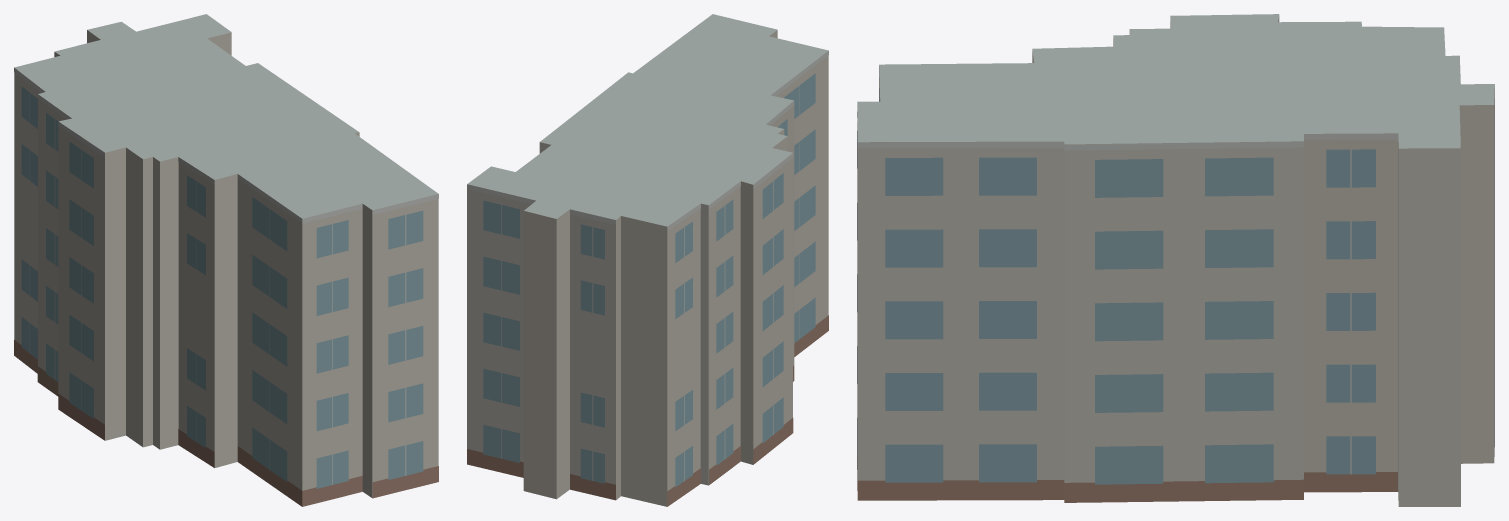
Rendered from survey-upis-32608229.glb.
3 views of the same model, side by side, from view 1: azimuth 30°, elevation 25°; view 2: azimuth 150°, elevation 25°; view 3: azimuth 270°, elevation 25° (orthographic). The views are drawn at different scales.
Visible parts, largest first — view 1: survey-upis-32608229.tmp; view 2: survey-upis-32608229.tmp; view 3: survey-upis-32608229.tmp.
Boxes of the visible parts, x1=… form: survey-upis-32608229.tmp: x1=14, y1=14, x2=438, y2=506; survey-upis-32608229.tmp: x1=467, y1=14, x2=828, y2=506; survey-upis-32608229.tmp: x1=857, y1=14, x2=1494, y2=506.
Bounding box in the file's own units: 11.51 × 14.3 × 23.07.
